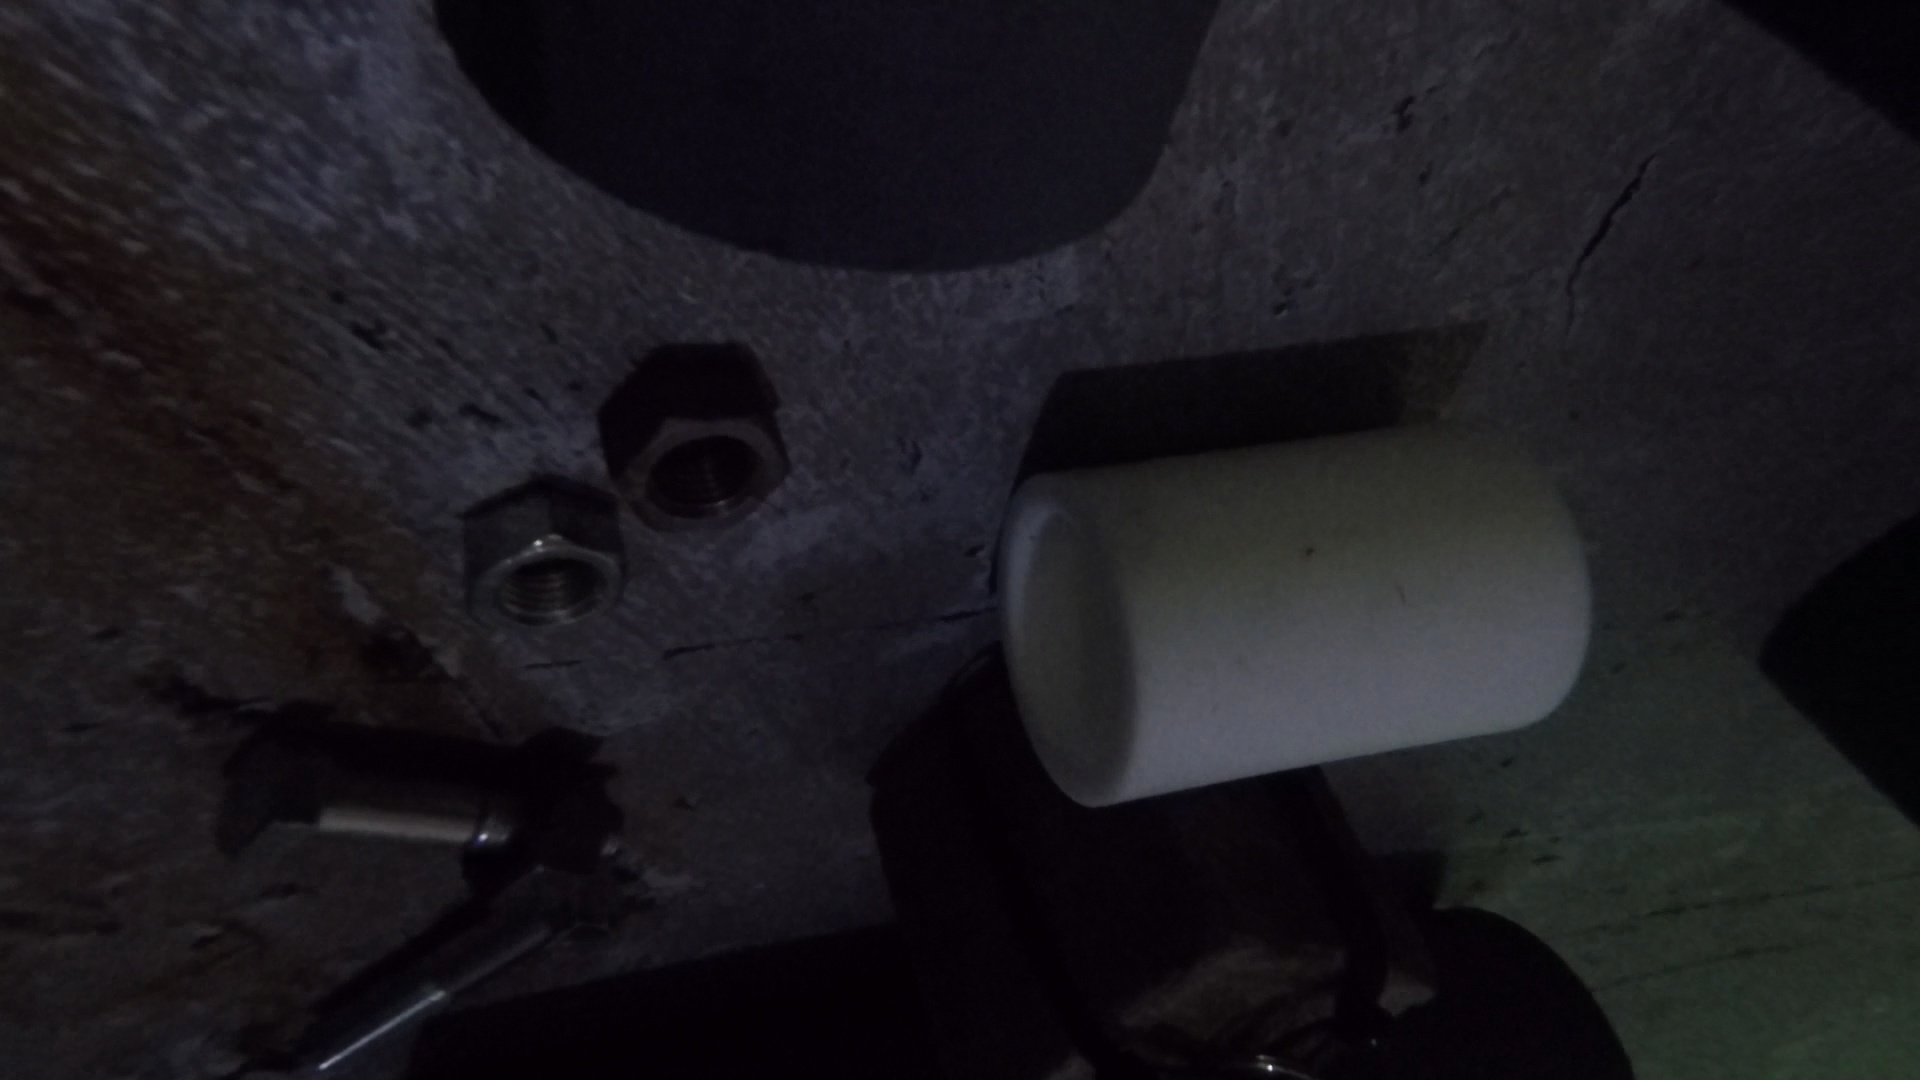bolt: (215, 731, 628, 862), (262, 905, 568, 1080)
led_block: (874, 676, 1448, 1080)
nut: (597, 342, 793, 537), (462, 477, 628, 637), (468, 727, 597, 899)
pipe: (993, 419, 1589, 807), (430, 1, 1216, 281)
